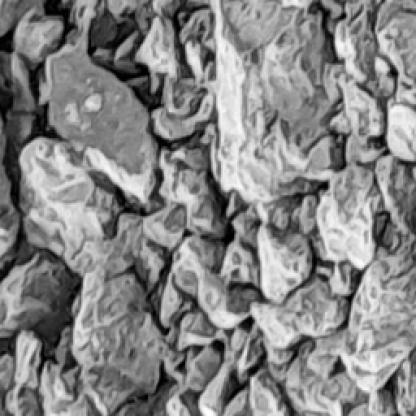cementitious_debris: (2, 0, 414, 414)
